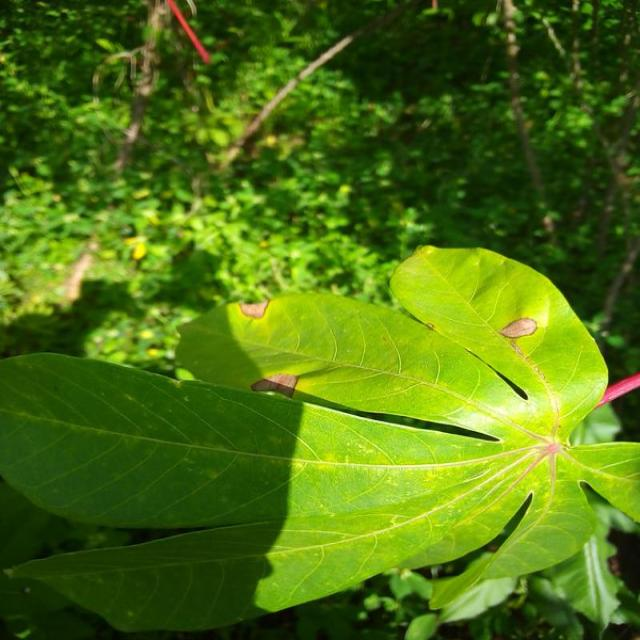cassava leaf: (2, 242, 639, 633)
